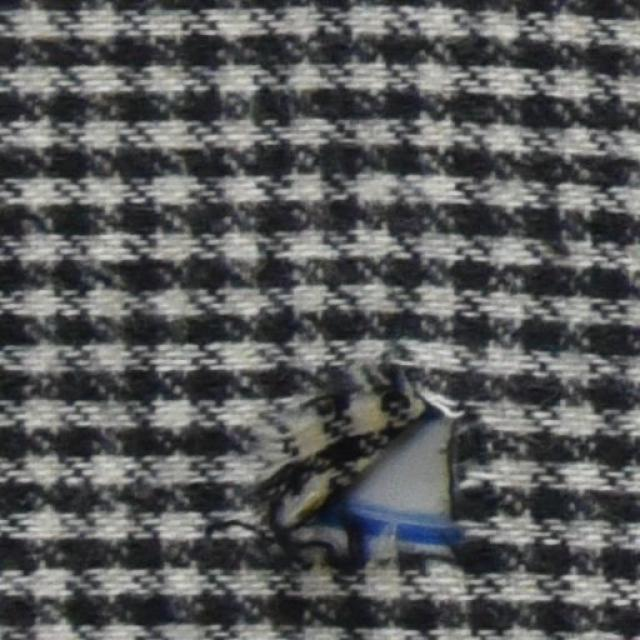Hole: (333, 406, 454, 544)
Snag: (209, 351, 461, 583)
